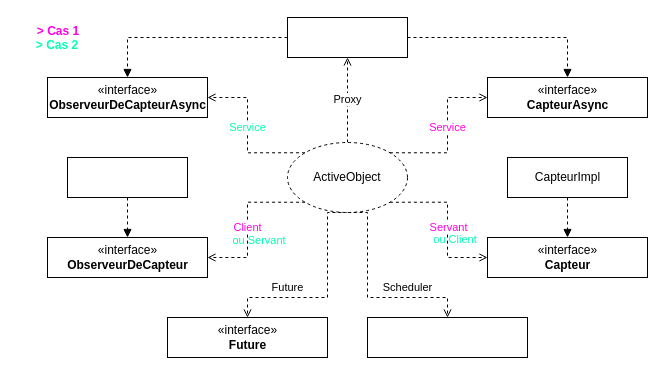
This 665x375 diagram has some shape labels left out. Each missing label, with the centre of its shape:
Afficheur: (x=127, y=177)
Canal: (x=347, y=37)
ScheduledExecutorService: (x=447, y=337)
